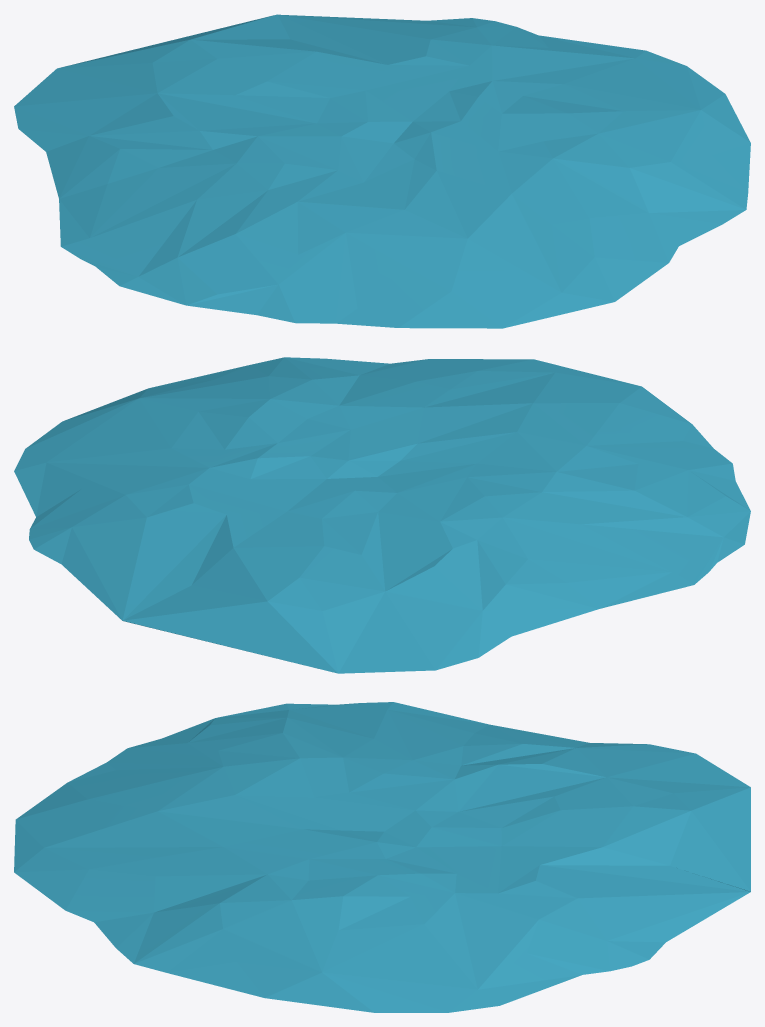
Rendered from SM_Env_Flat_Sand_02.glb.
3 renders of one model, top to bottom at view 1: azimuth 30°, elevation 25°; view 2: azimuth 150°, elevation 25°; view 3: azimuth 270°, elevation 25°, orthographic. The views are drawn at different scales.
Visible parts, largest first — view 1: SM_Env_Flat_Sand_02; view 2: SM_Env_Flat_Sand_02; view 3: SM_Env_Flat_Sand_02.
Boxes of the visible parts, x1,y1,x2,y2 form: SM_Env_Flat_Sand_02: [14, 14, 750, 328]; SM_Env_Flat_Sand_02: [14, 357, 750, 673]; SM_Env_Flat_Sand_02: [14, 702, 750, 1012].
Bounding box in the file's own units: 0.105 × 0.00536 × 0.1051.
